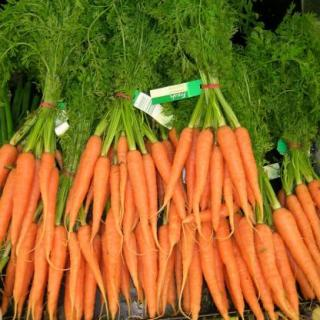Wortel: (274, 209, 320, 301), (69, 136, 103, 229), (191, 129, 218, 239), (8, 151, 37, 248), (217, 124, 249, 210), (127, 150, 150, 250), (90, 157, 112, 236), (37, 152, 56, 233)
